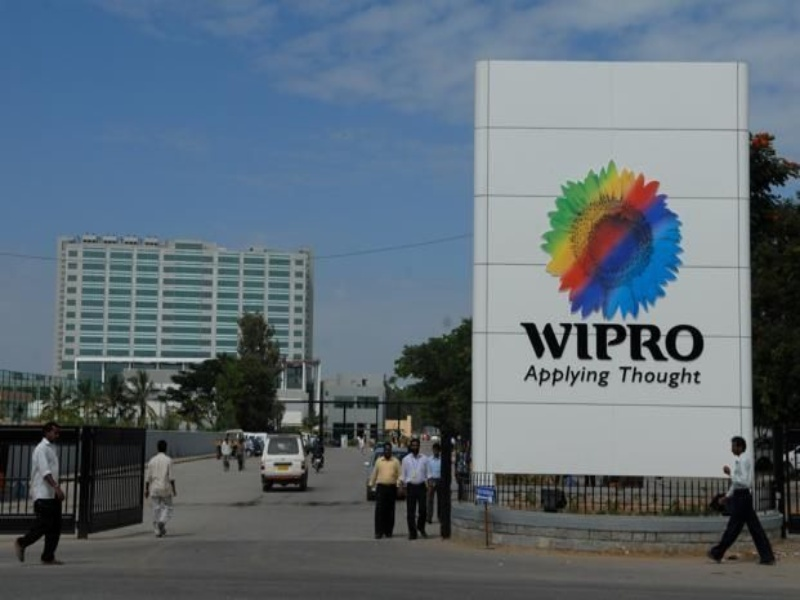wipro: (540, 161, 685, 321)
